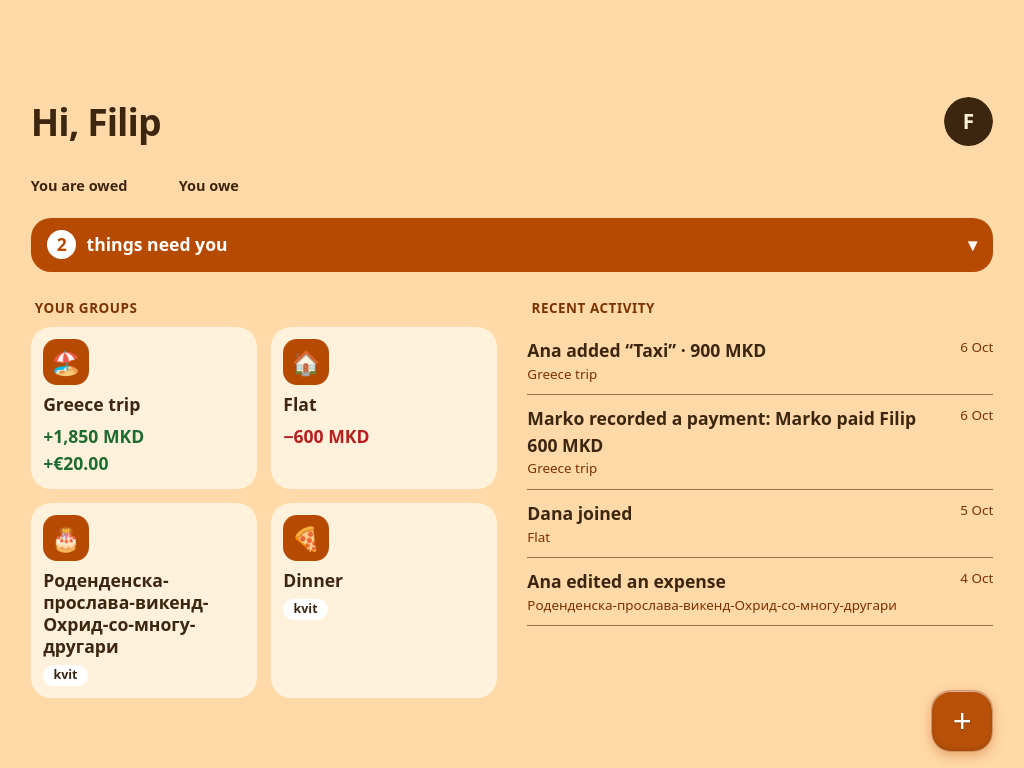
it: the plus button on the home screen › opens a menu with the four items, the first one naming the group of the plus target
Click the button named "Add": (962, 721) [931,690,993,752]
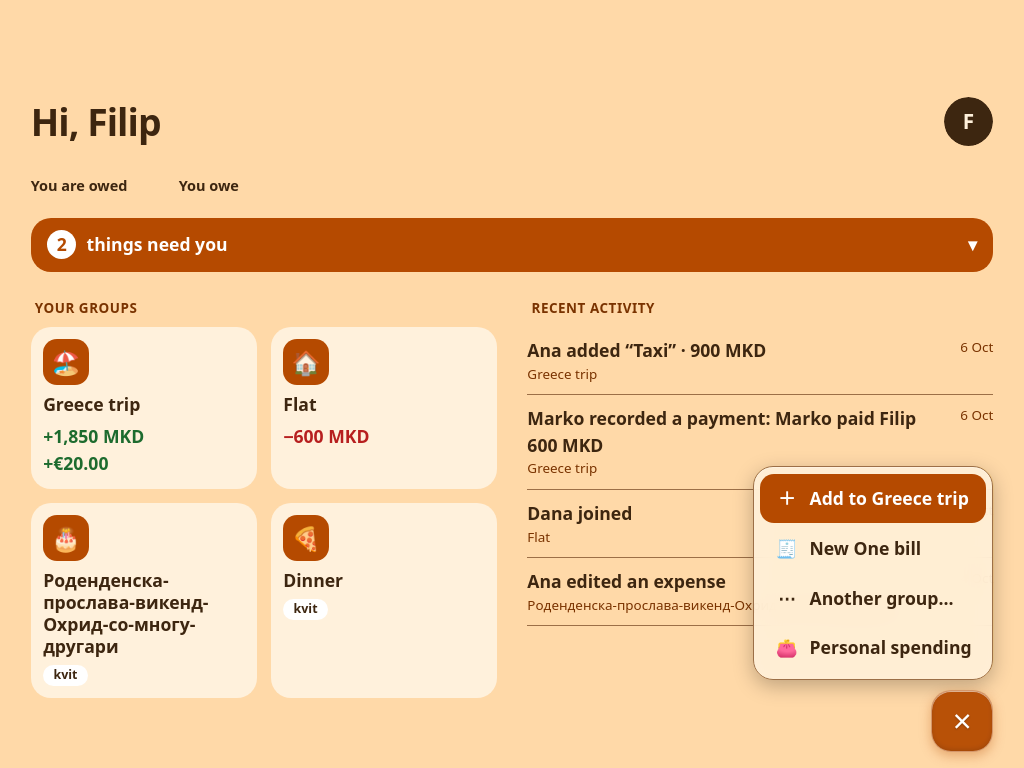
Result: the number of menu items is 4 at [760,474,986,523]; [776,536,921,560]; [778,586,954,610]; [760,623,986,672]
